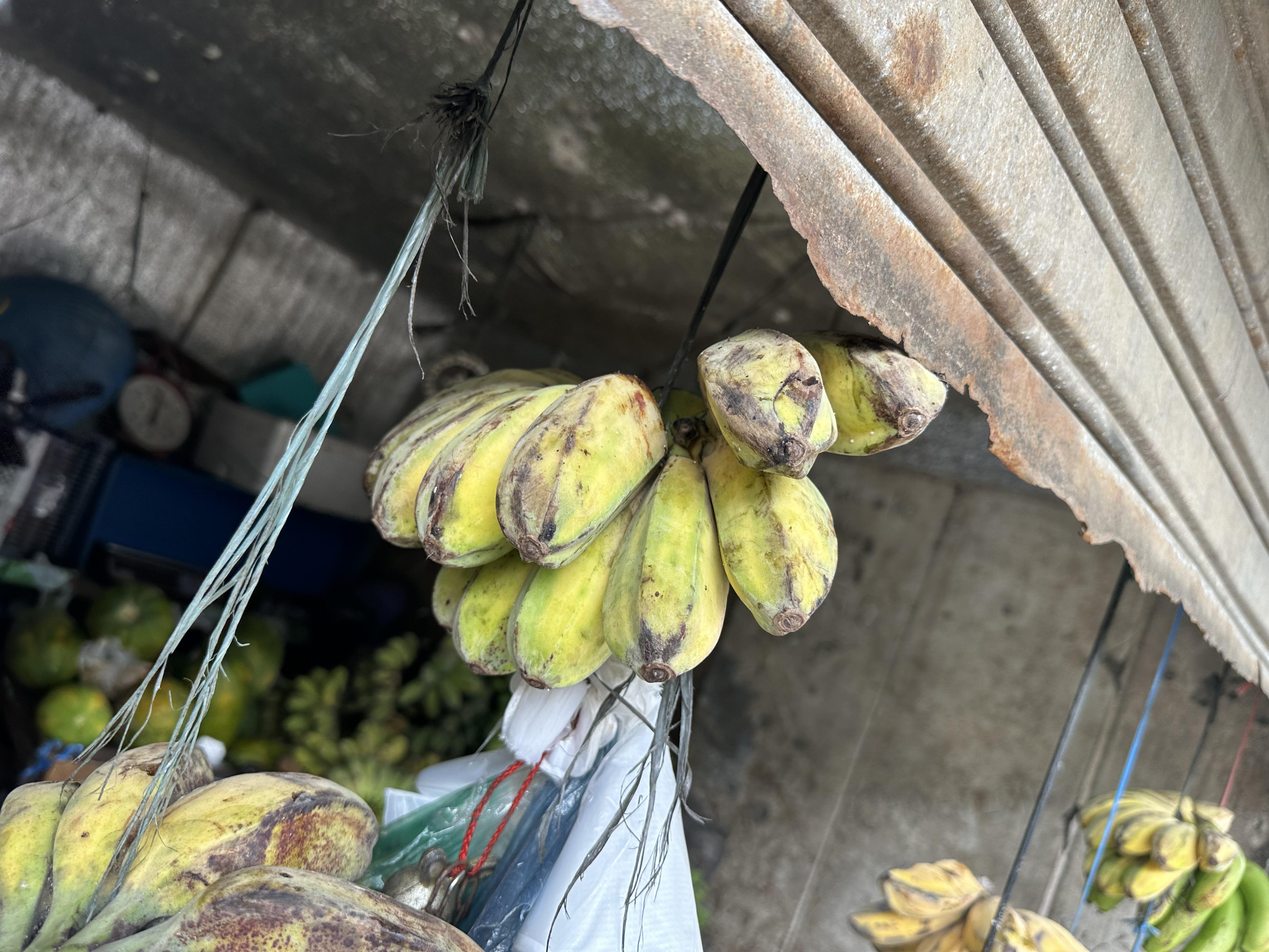underripe: (366, 329, 947, 688), (121, 769, 485, 952), (0, 742, 170, 928)
